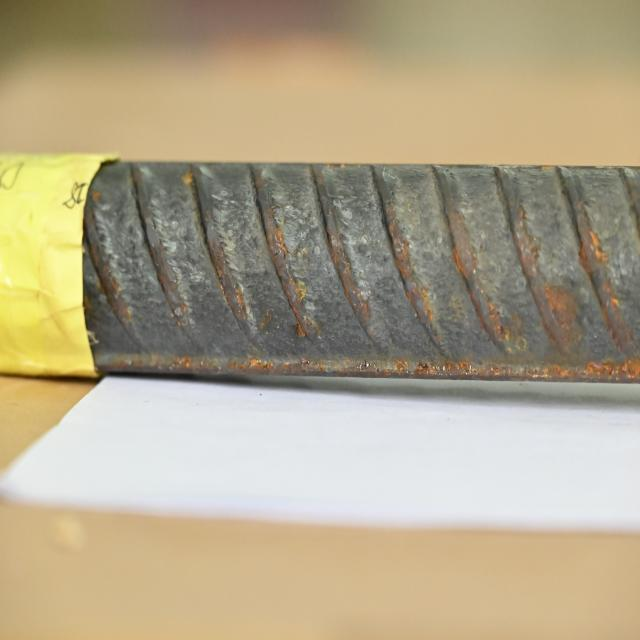ribbed bar: (81, 143, 640, 392)
